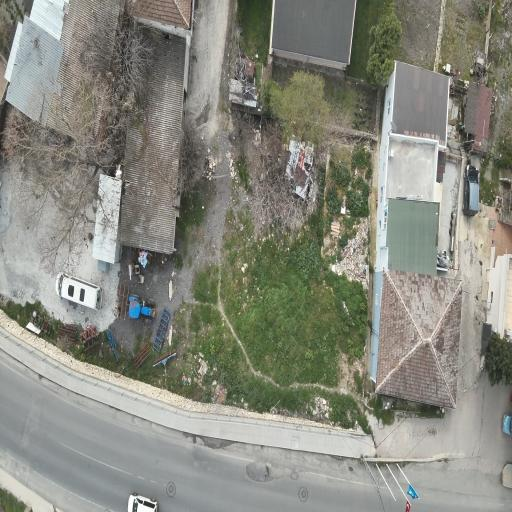car: (56, 272, 102, 308), (463, 164, 479, 215), (128, 295, 155, 323), (128, 493, 157, 511), (503, 413, 511, 433)
